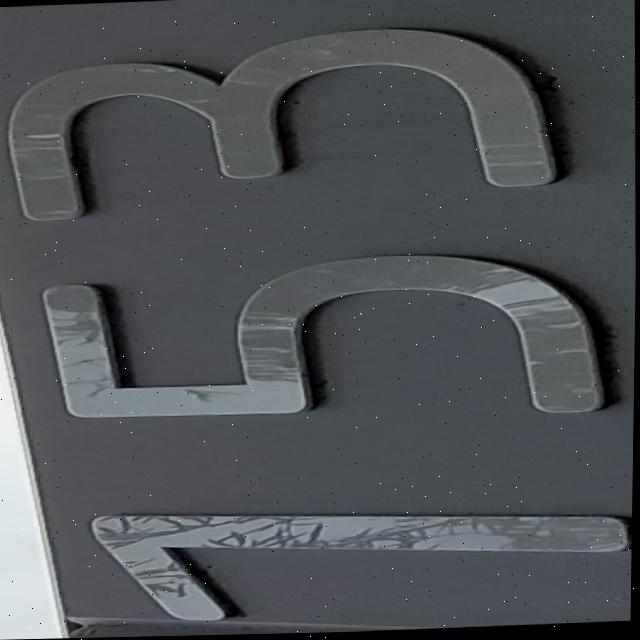character: (21, 236, 636, 439), (0, 14, 584, 225), (67, 489, 633, 627)
